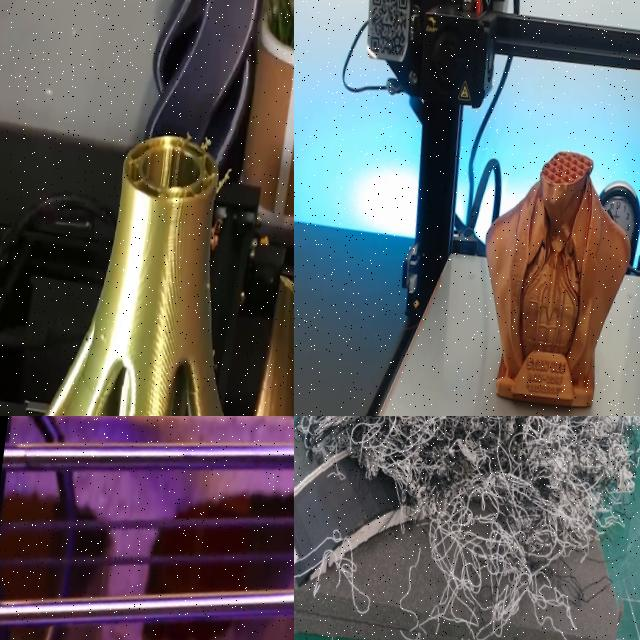spaghetti: (294, 416, 639, 640), (294, 499, 398, 610), (172, 114, 239, 202)
